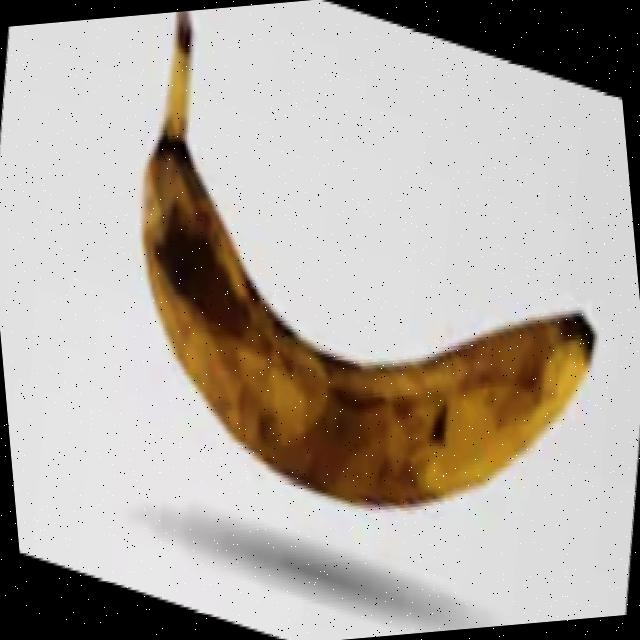rotten banana: (81, 84, 640, 573)
